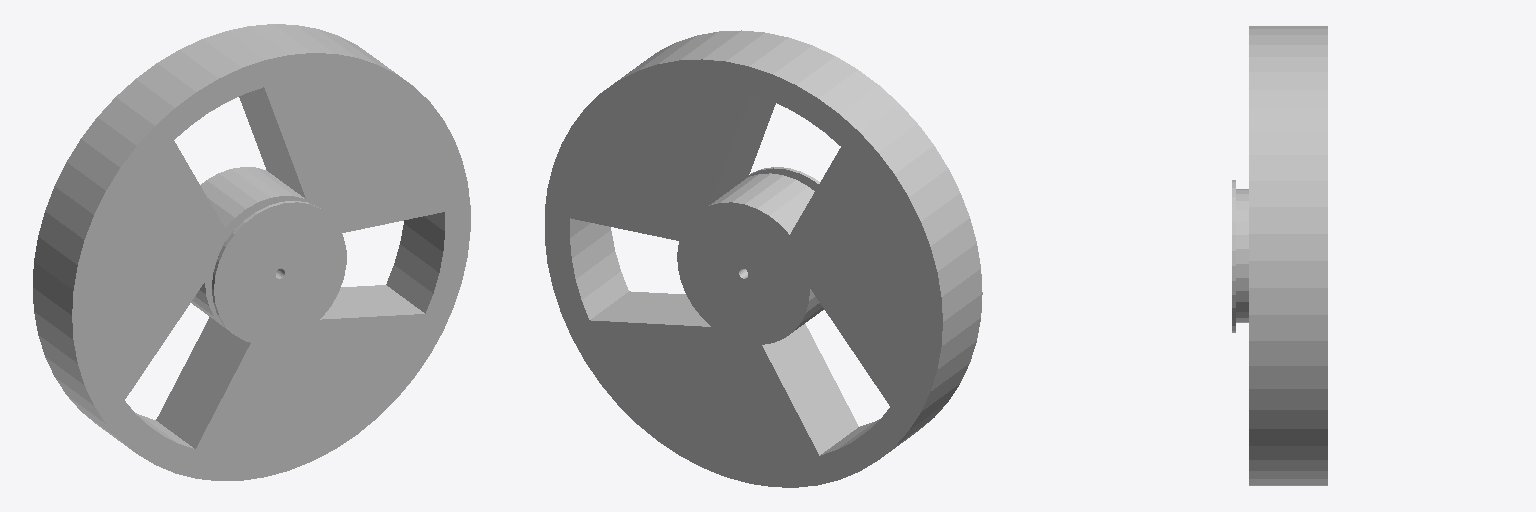
File: wheelAssy.obj
3 views of the same model, side by side, from view 1: azimuth 30°, elevation 25°; view 2: azimuth 150°, elevation 25°; view 3: azimuth 270°, elevation 25° (orthographic).
Parts seen in each view (by area): view 1: Root|wheelAssy_(Default)|Default|color, Root|wheelAssy_(Default)|Default|color-2; view 2: Root|wheelAssy_(Default)|Default|color, Root|wheelAssy_(Default)|Default|color-2; view 3: Root|wheelAssy_(Default)|Default|color.
Part boxes in pixels (bbox=[...]): Root|wheelAssy_(Default)|Default|color: bbox=[33, 24, 470, 480]; Root|wheelAssy_(Default)|Default|color-2: bbox=[135, 87, 444, 448]; Root|wheelAssy_(Default)|Default|color: bbox=[545, 30, 982, 487]; Root|wheelAssy_(Default)|Default|color-2: bbox=[570, 94, 879, 455]; Root|wheelAssy_(Default)|Default|color: bbox=[1232, 26, 1327, 485].
Size of the model in its own units: 0.5695 by 0.5697 by 0.12.